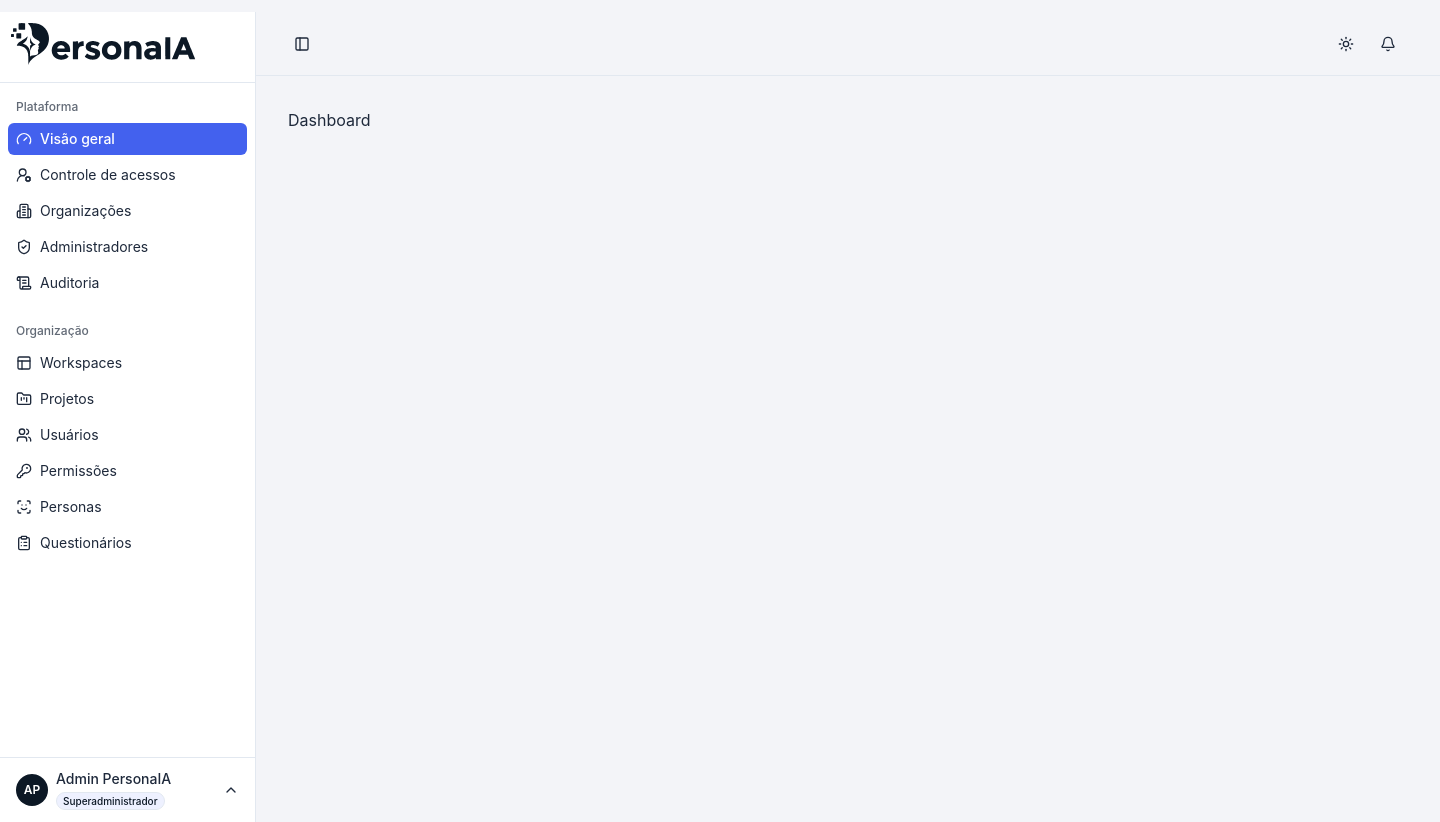
Scenario: AppShell › opens the notification panel with an accessible empty state
Click the button named "Notificações" at (1388, 44), box [1368, 24, 1408, 64]
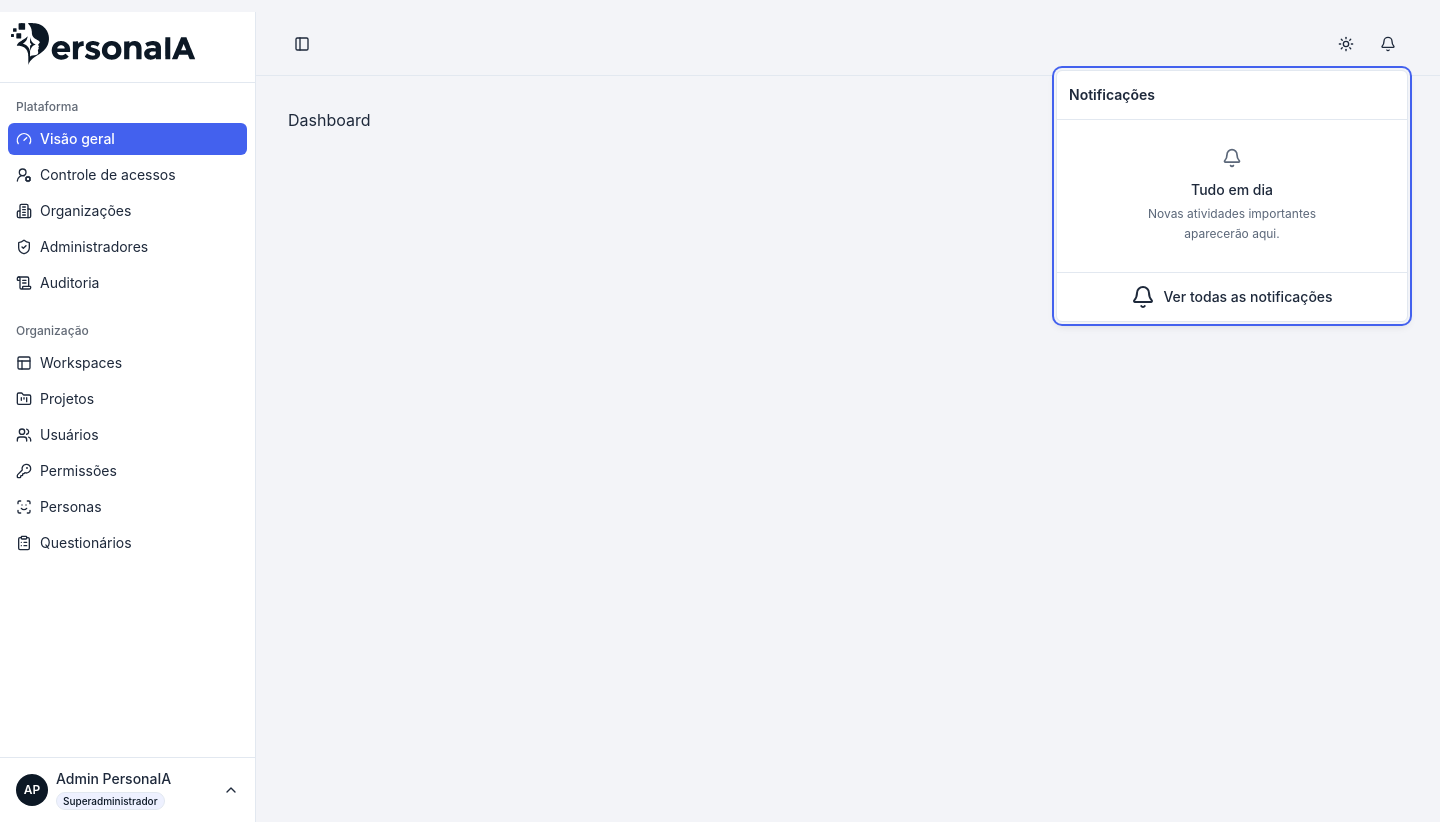
Check: the message shows "Tudo em dia", box [1191, 181, 1273, 198]
Check: the message shows "Novas atividades importantes aparecerão aqui.", box [1148, 206, 1316, 241]
